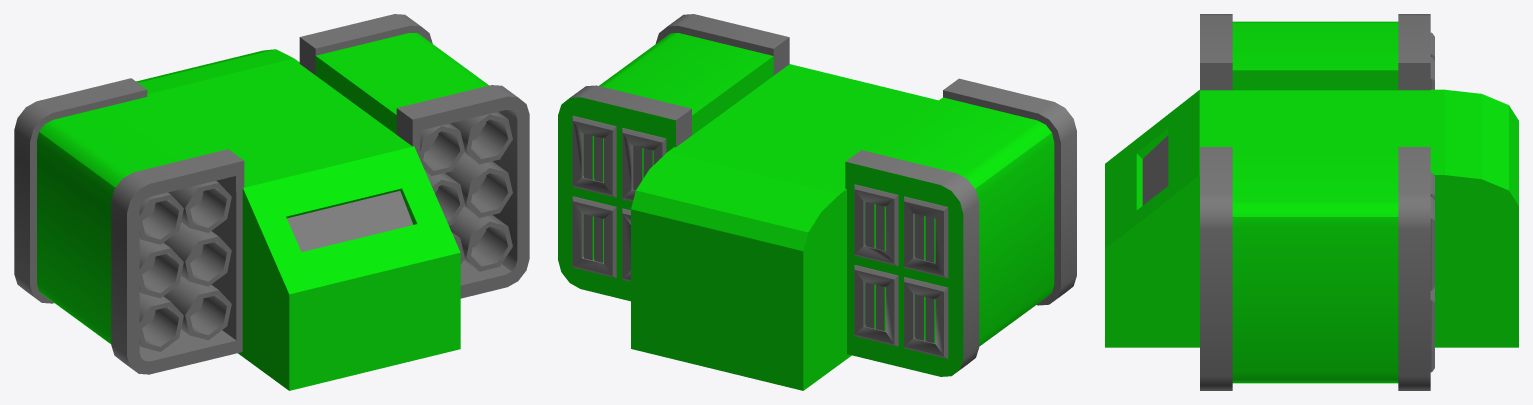
Rendered from TankTurret5.fbx.
The picture shows the model from 3 angles, left to right: view 1: azimuth 30°, elevation 25°; view 2: azimuth 150°, elevation 25°; view 3: azimuth 270°, elevation 25°; orthographic projection. The views are drawn at different scales.
Parts seen in each view (by area): view 1: Cube; view 2: Cube; view 3: Cube.
Boxes of the visible parts, x1,y1,x2,y2 form: Cube: (14, 14, 529, 390); Cube: (558, 14, 1076, 390); Cube: (1105, 14, 1518, 390).
Size of the model in its own units: 229 by 200 by 119.
